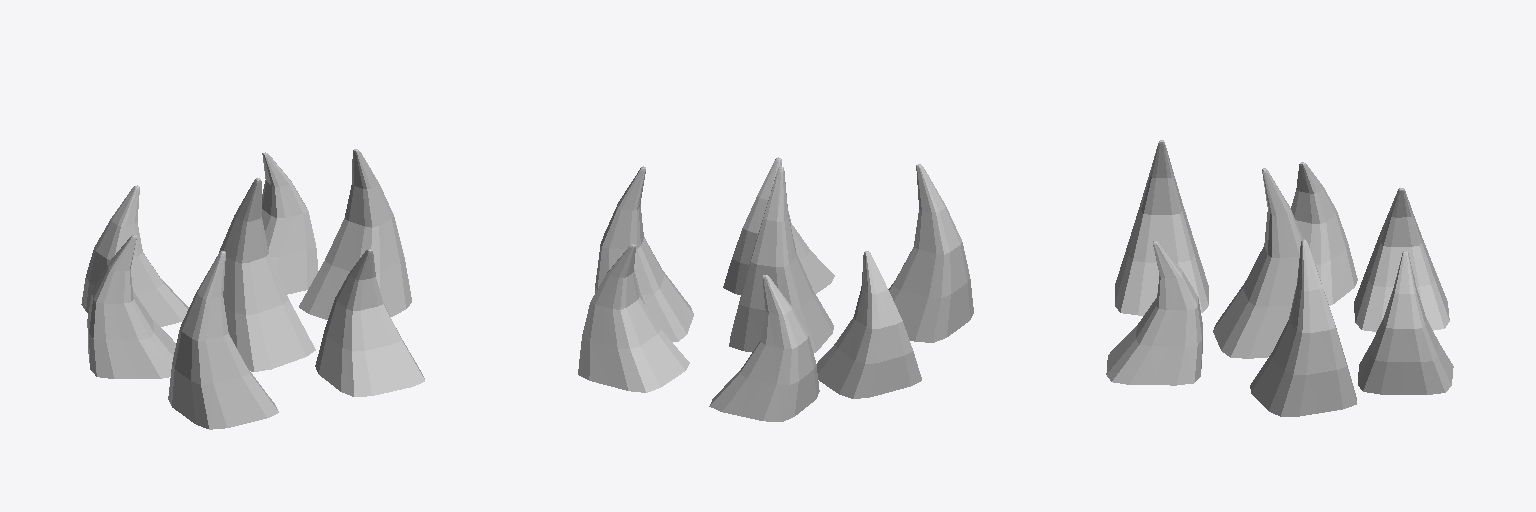
The model's file is spikes.obj.
The picture shows the model from 3 angles: view 1: azimuth 30°, elevation 25°; view 2: azimuth 150°, elevation 25°; view 3: azimuth 270°, elevation 25°; orthographic projection.
Parts seen in each view (by area): view 1: spikes; view 2: spikes; view 3: spikes.
Boxes of the visible parts, <box> form: spikes: <box>81,149,424,429</box>; spikes: <box>578,157,973,421</box>; spikes: <box>1106,140,1453,416</box>.
Bounding box in the file's own units: 0.858 × 0.4421 × 0.8231.